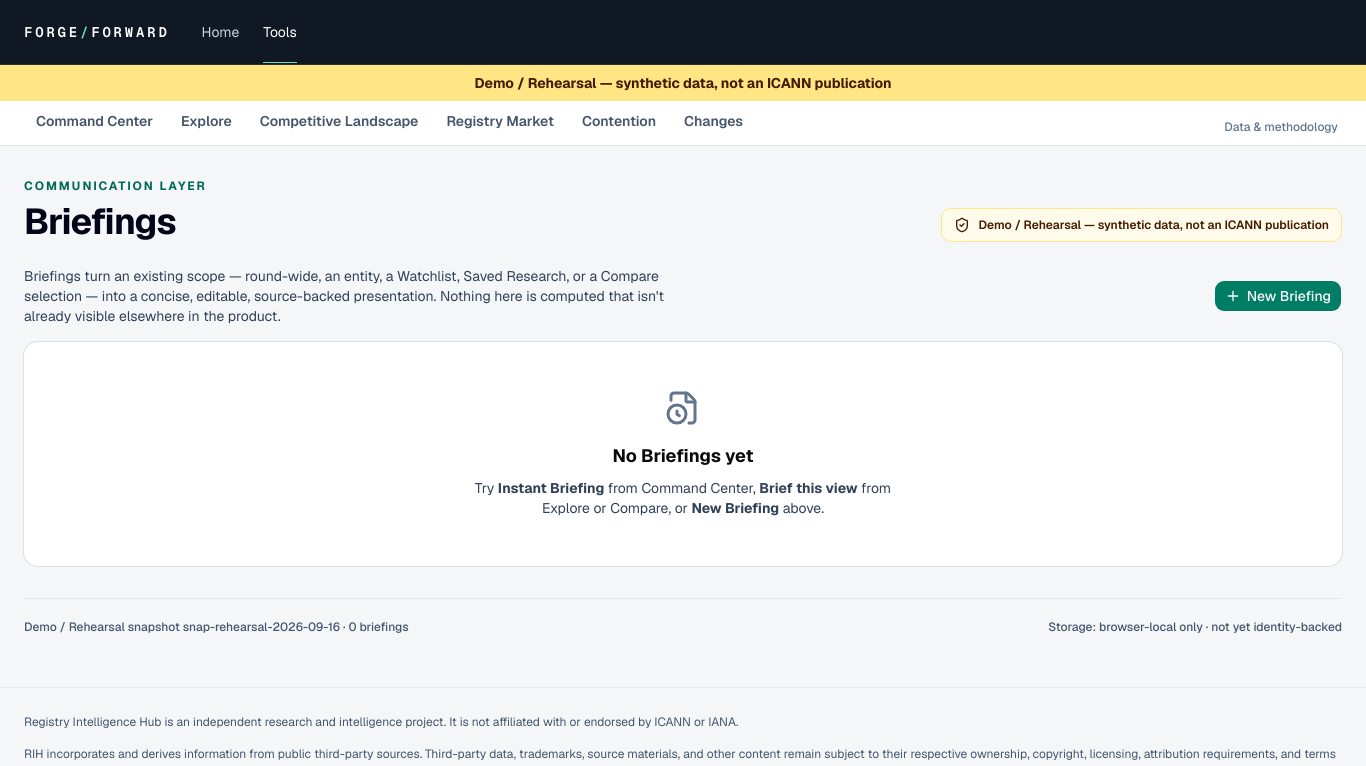
Test: New Briefing wizard — portal layering, cancel, Escape, and Back (contained UX correction) › the top-right close icon is an equivalent Cancel affordance on step 1
The image size is (1366, 766).
Click the button "New Briefing" at x=1278, y=296, box [1214,280,1342,312]
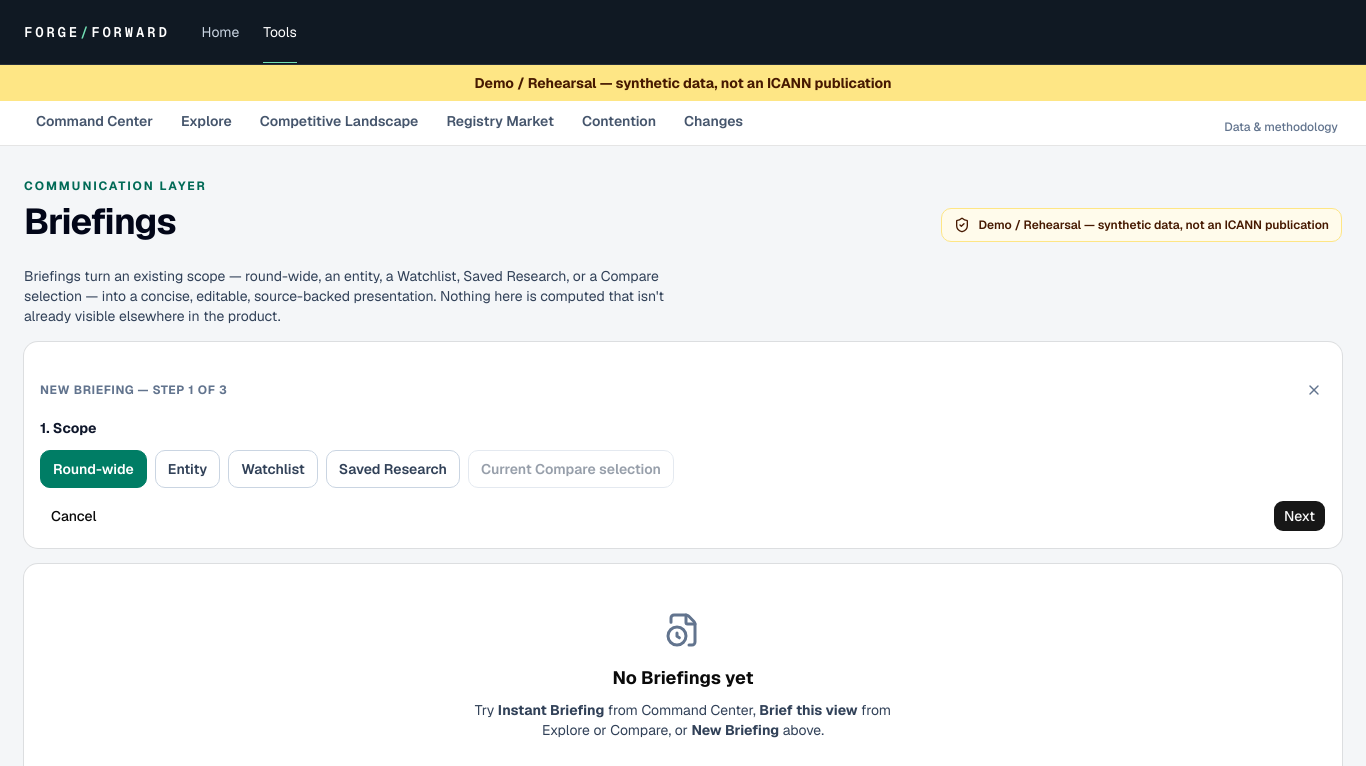
Click the button named "Cancel New Briefing" at x=1314, y=390, box [1302,378,1326,402]
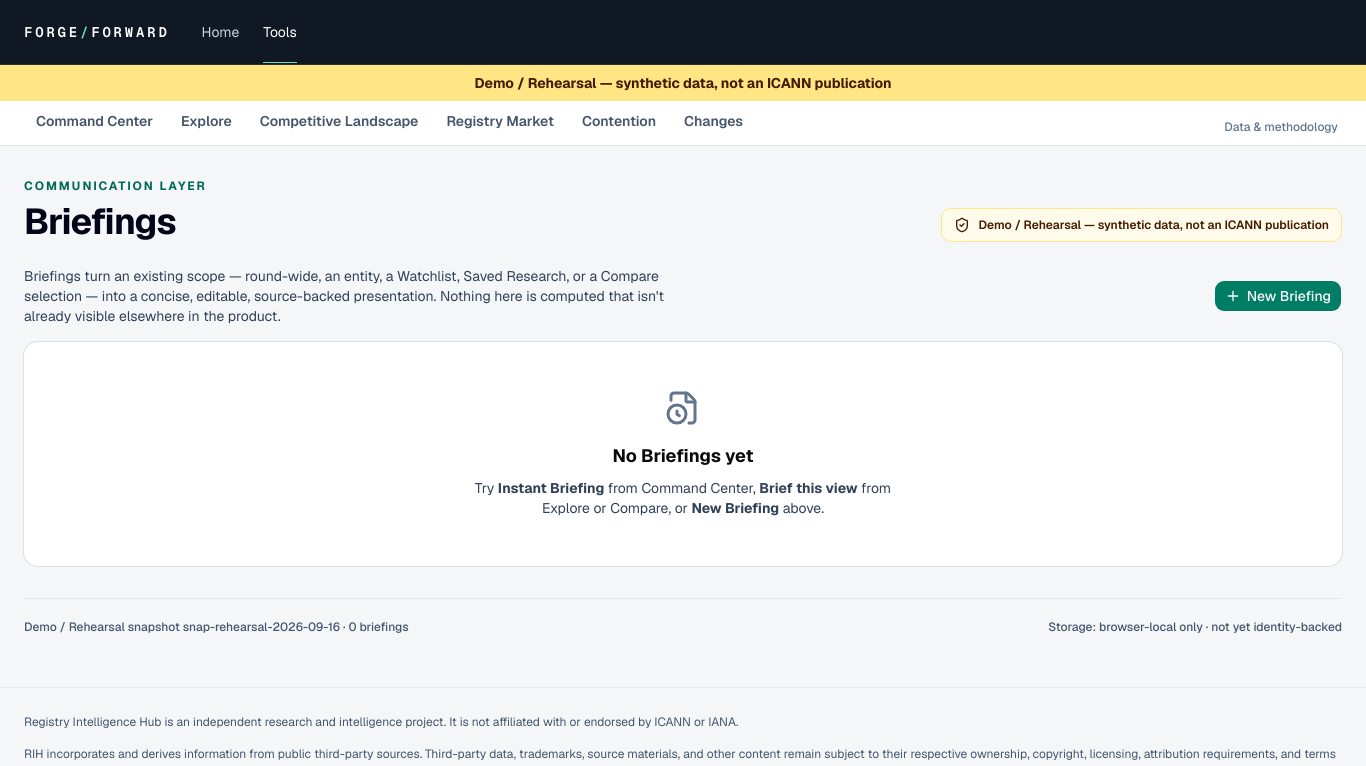
expect the text "New Briefing — step" is gone: met
